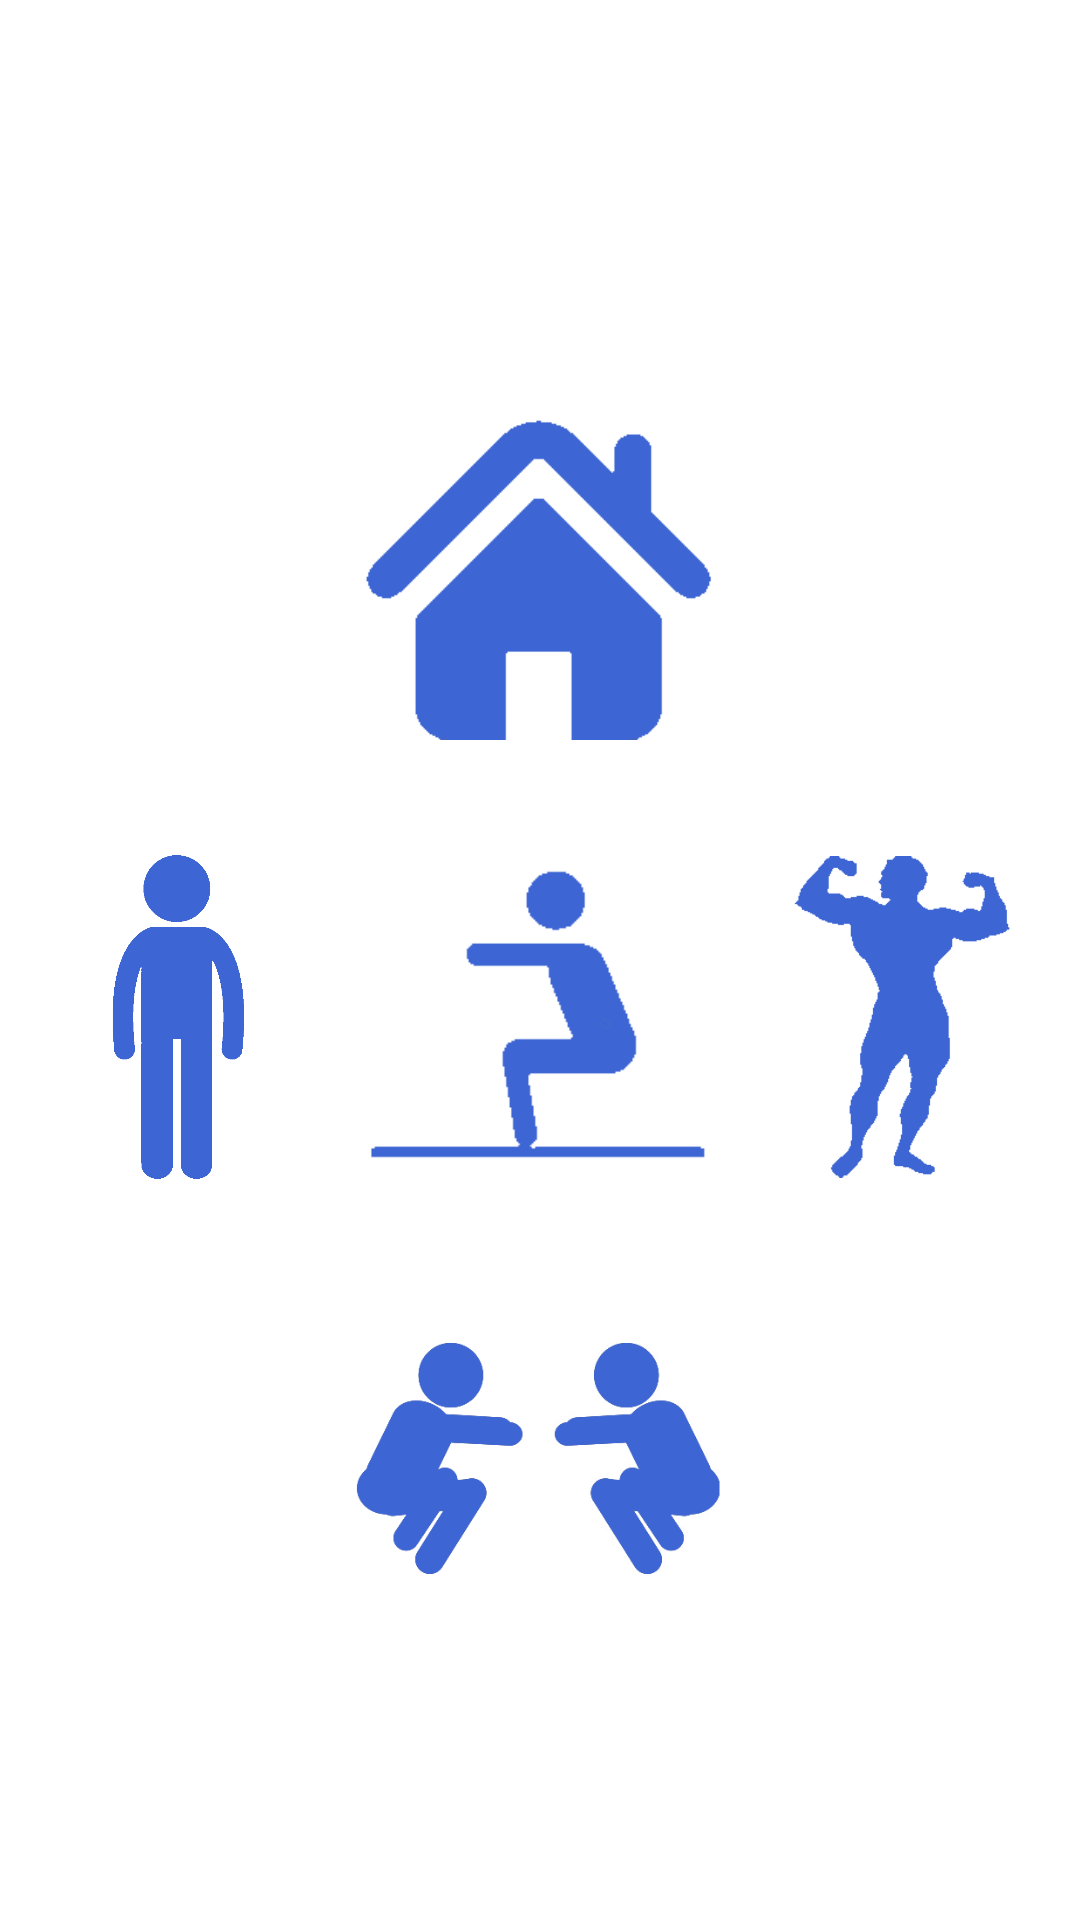

Screen size 1080x1920. Icon name, then its center in pixels as point (x, y):
house: point (538, 580)
